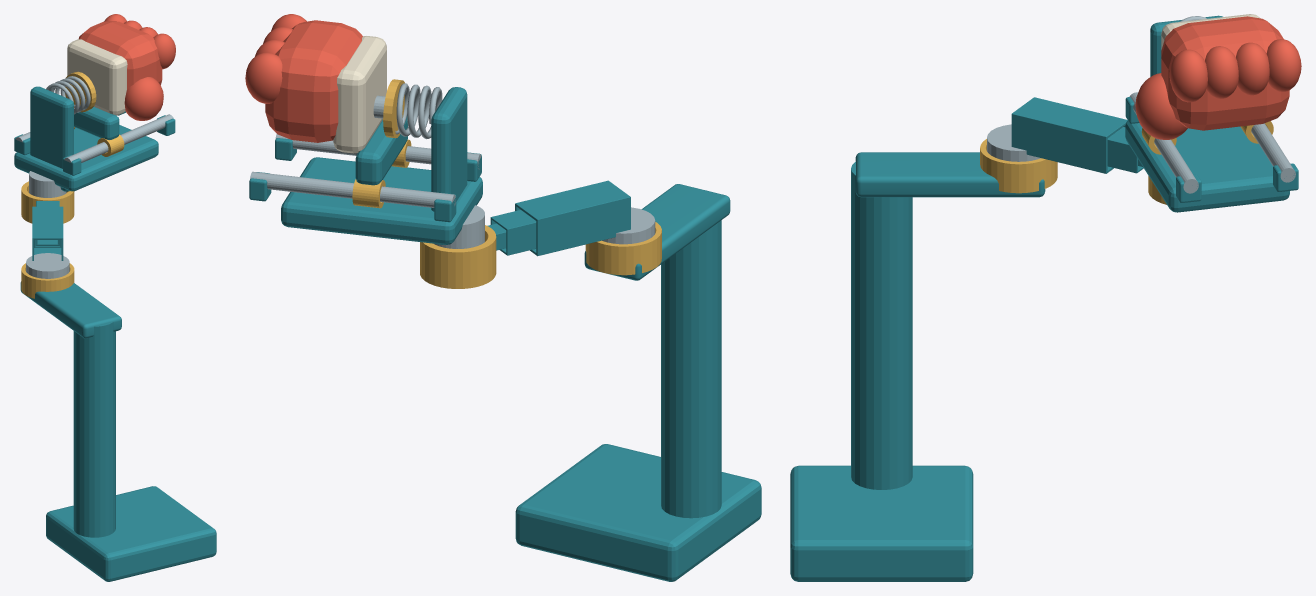
The model's file is punch-rebuild-r1.glb.
3 renders of one model, left to right at view 1: azimuth 30°, elevation 25°; view 2: azimuth 150°, elevation 25°; view 3: azimuth 270°, elevation 25°, orthographic. The views are drawn at different scales.
Visible parts, largest first — view 1: PUNCH_ROOT__teal_fixed_batch, PUNCH_COUNTER_YAW__teal_fixed_batch, PUNCH_SLIDER_X__coral_fixed_batch, PUNCH_CUFF, PUNCH_FIXED_OUTBOARD_BRACKET, PUNCH_COUNTER_YAW__steel_fixed_batch, PUNCH_R1_OUTER_TUBE, PUNCH_SLIDE_YOKE, PUNCH_BOOM_HUB, PUNCH_FIXED_BEARING, PUNCH_BOOM_END_SLEEVE, PUNCH_SLIDER_X__gold_fixed_batch (+2 smaller); view 2: PUNCH_ROOT__teal_fixed_batch, PUNCH_COUNTER_YAW__teal_fixed_batch, PUNCH_SLIDER_X__coral_fixed_batch, PUNCH_R1_OUTER_TUBE, PUNCH_COUNTER_YAW__steel_fixed_batch, PUNCH_CUFF, PUNCH_FIXED_OUTBOARD_BRACKET, PUNCH_BOOM_END_SLEEVE, PUNCH_FIXED_BEARING, PUNCH_SPRING, PUNCH_SLIDE_YOKE, PUNCH_SLIDER_X__gold_fixed_batch (+2 smaller); view 3: PUNCH_ROOT__teal_fixed_batch, PUNCH_SLIDER_X__coral_fixed_batch, PUNCH_COUNTER_YAW__teal_fixed_batch, PUNCH_FIXED_OUTBOARD_BRACKET, PUNCH_R1_OUTER_TUBE, PUNCH_FIXED_BEARING, PUNCH_COUNTER_YAW__steel_fixed_batch, PUNCH_BOOM_HUB, PUNCH_R1_MIDDLE_TUBE.
Part boxes in pixels (<box>): PUNCH_ROOT__teal_fixed_batch: <box>46,322,216,581</box>; PUNCH_COUNTER_YAW__teal_fixed_batch: <box>14,86,175,191</box>; PUNCH_SLIDER_X__coral_fixed_batch: <box>78,14,175,120</box>; PUNCH_CUFF: <box>67,39,127,115</box>; PUNCH_FIXED_OUTBOARD_BRACKET: <box>20,281,121,338</box>; PUNCH_COUNTER_YAW__steel_fixed_batch: <box>15,114,173,197</box>; PUNCH_R1_OUTER_TUBE: <box>32,206,63,260</box>; PUNCH_SLIDE_YOKE: <box>60,95,119,139</box>; PUNCH_BOOM_HUB: <box>26,253,69,278</box>; PUNCH_FIXED_BEARING: <box>21,263,74,298</box>; PUNCH_BOOM_END_SLEEVE: <box>21,181,74,223</box>; PUNCH_SLIDER_X__gold_fixed_batch: <box>65,71,124,156</box>; PUNCH_ROOT__teal_fixed_batch: <box>515,190,761,581</box>; PUNCH_COUNTER_YAW__teal_fixed_batch: <box>249,87,482,244</box>; PUNCH_SLIDER_X__coral_fixed_batch: <box>245,14,362,142</box>; PUNCH_R1_OUTER_TUBE: <box>515,180,630,256</box>; PUNCH_COUNTER_YAW__steel_fixed_batch: <box>250,134,484,248</box>; PUNCH_CUFF: <box>333,36,386,153</box>; PUNCH_FIXED_OUTBOARD_BRACKET: <box>584,184,730,280</box>; PUNCH_BOOM_END_SLEEVE: <box>420,225,496,288</box>; PUNCH_FIXED_BEARING: <box>585,222,661,275</box>; PUNCH_SPRING: <box>395,83,442,139</box>; PUNCH_SLIDE_YOKE: <box>355,115,407,185</box>; PUNCH_SLIDER_X__gold_fixed_batch: <box>352,79,411,208</box>; PUNCH_ROOT__teal_fixed_batch: <box>790,162,973,581</box>; PUNCH_SLIDER_X__coral_fixed_batch: <box>1135,16,1301,139</box>; PUNCH_COUNTER_YAW__teal_fixed_batch: <box>1125,15,1298,212</box>; PUNCH_FIXED_OUTBOARD_BRACKET: <box>855,152,1045,197</box>; PUNCH_R1_OUTER_TUBE: <box>1011,97,1127,173</box>; PUNCH_FIXED_BEARING: <box>980,139,1057,193</box>; PUNCH_COUNTER_YAW__steel_fixed_batch: <box>1129,92,1295,193</box>; PUNCH_BOOM_HUB: <box>987,124,1040,161</box>; PUNCH_R1_MIDDLE_TUBE: <box>1107,127,1143,173</box>.
Bounding box in the file's own units: 1.54 × 2.86 × 2.24.
